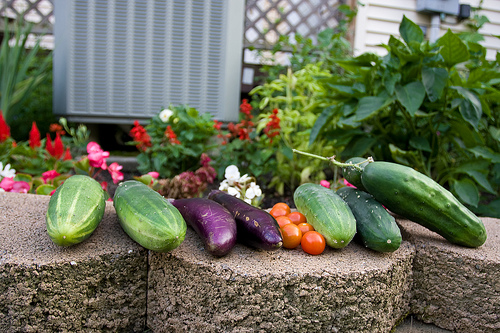cucumber: (111, 178, 188, 254), (45, 175, 106, 248), (292, 183, 358, 250)
